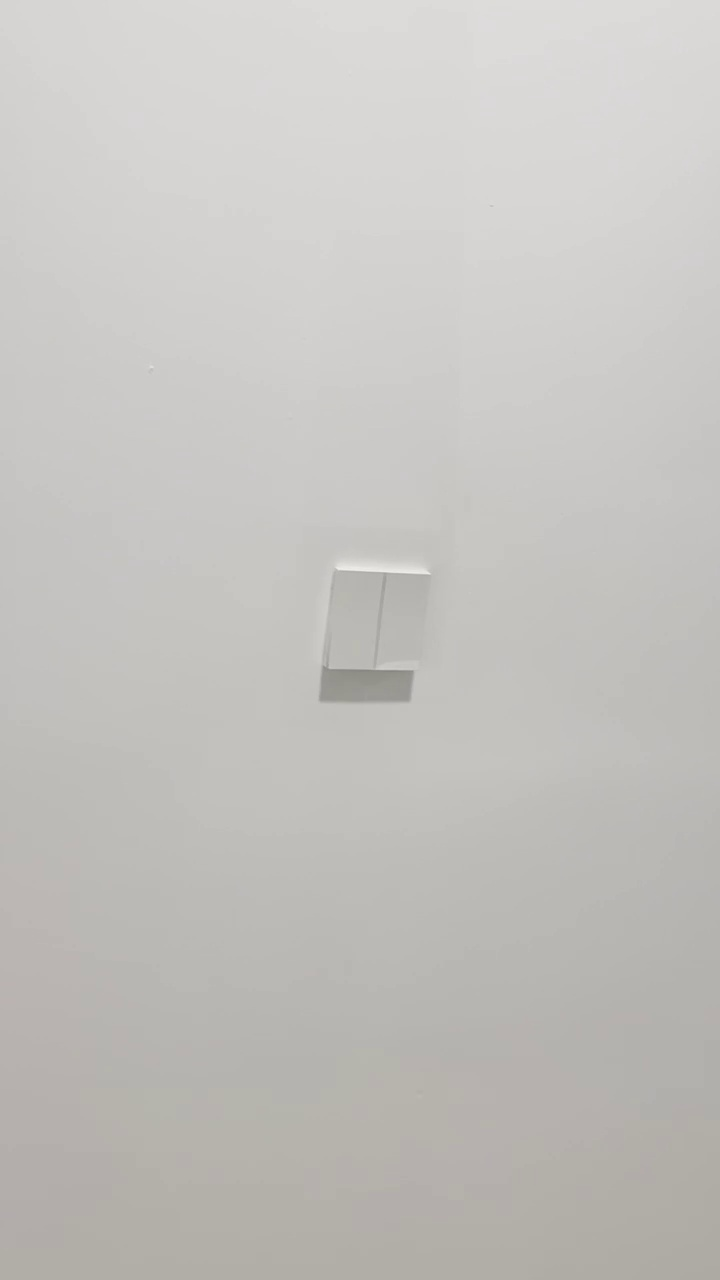button: (315, 563, 434, 674)
